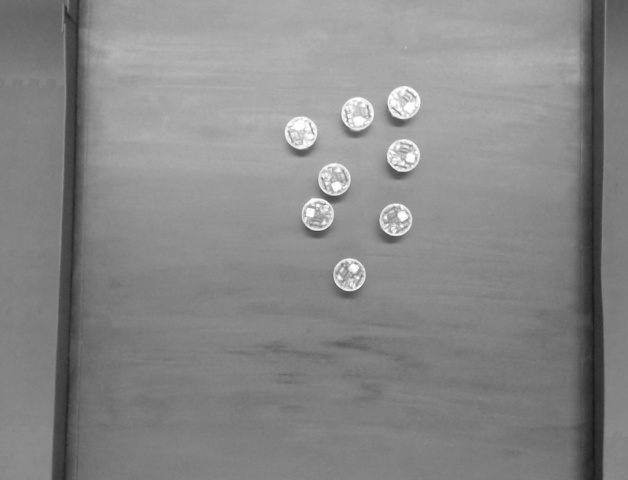epuck_2: (383, 137, 428, 185), (371, 197, 419, 238), (327, 249, 370, 294), (279, 112, 322, 157), (294, 196, 337, 235), (382, 84, 425, 120), (340, 93, 379, 132), (315, 157, 351, 198)
